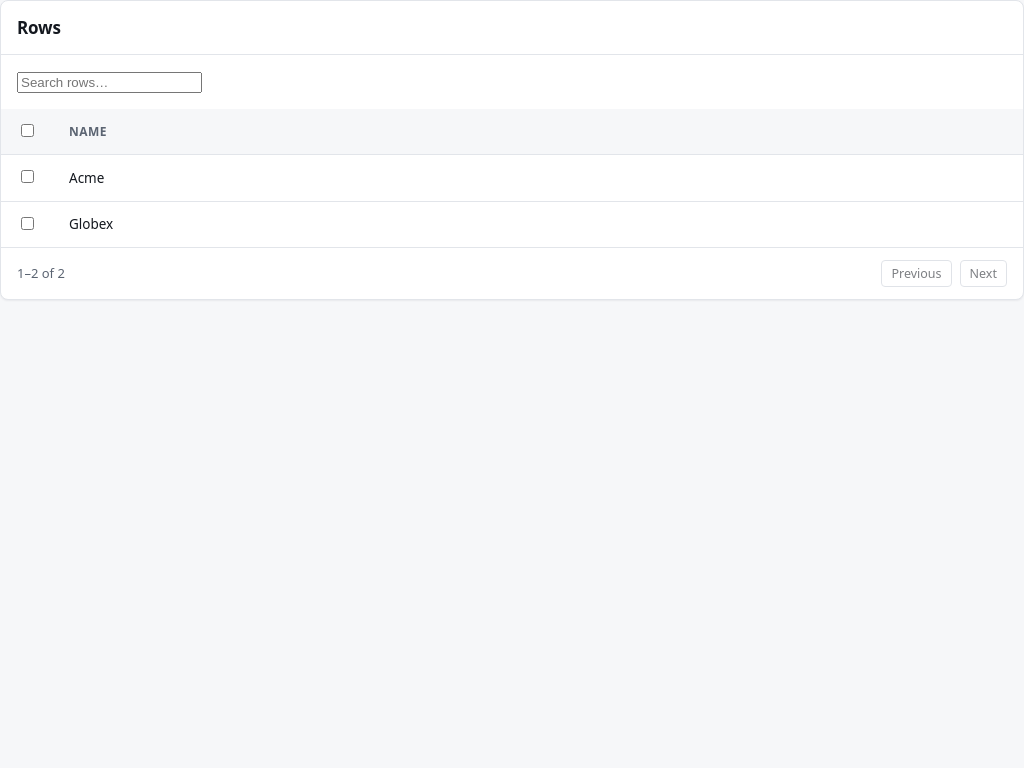
Test: bulk archive › reports a partial result per record instead of claiming success
Expected: the text "Acme" is shown, [53, 155, 1023, 201]
Click the checkbox named "Select all rows on this page" at {"x": 28, "y": 131}, box [21, 124, 34, 137]
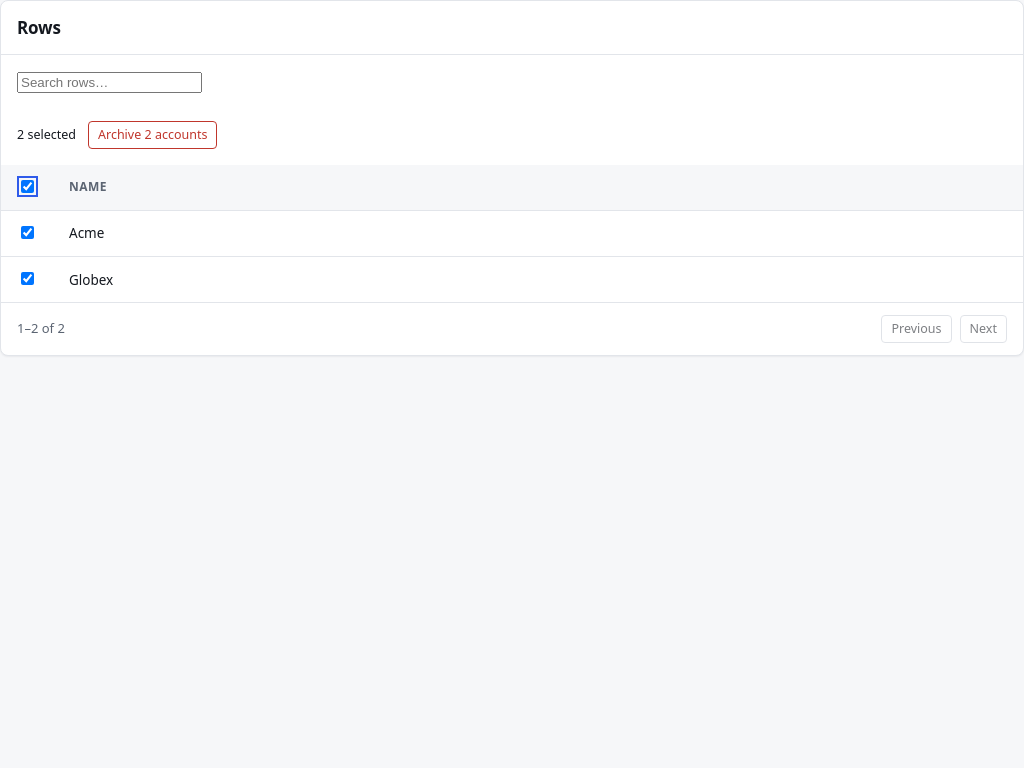
Click the button "Archive 2 accounts" at {"x": 153, "y": 135}, box [88, 121, 218, 149]
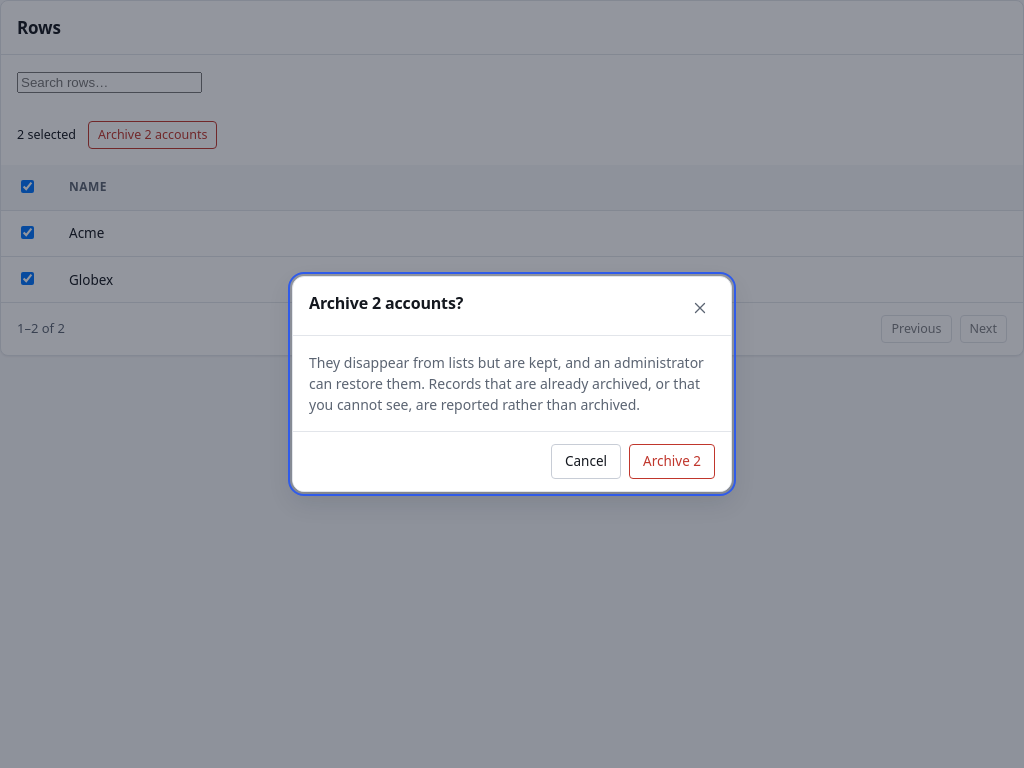
Click the button "Archive 2" at {"x": 672, "y": 461}, box [629, 444, 715, 479]
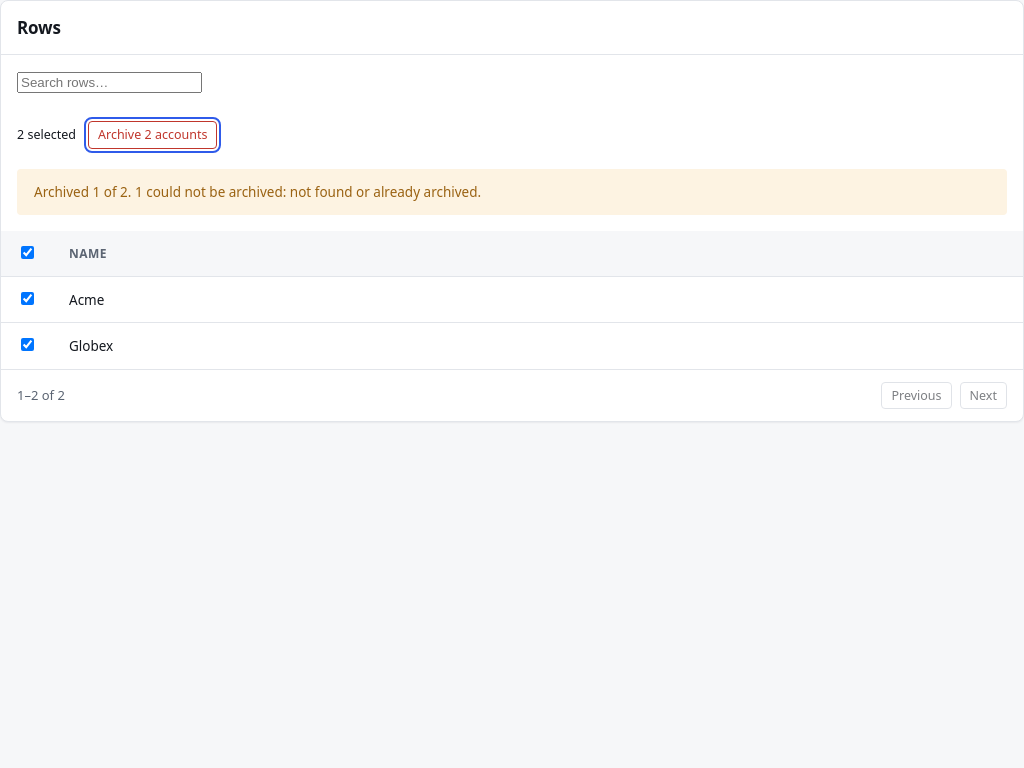
Result: the text "2 selected" is shown at [17, 126, 76, 144]
Result: the text "Archived 1 of 2. 1 could not be archived: not found or already archived." is shown at [17, 169, 1007, 215]
